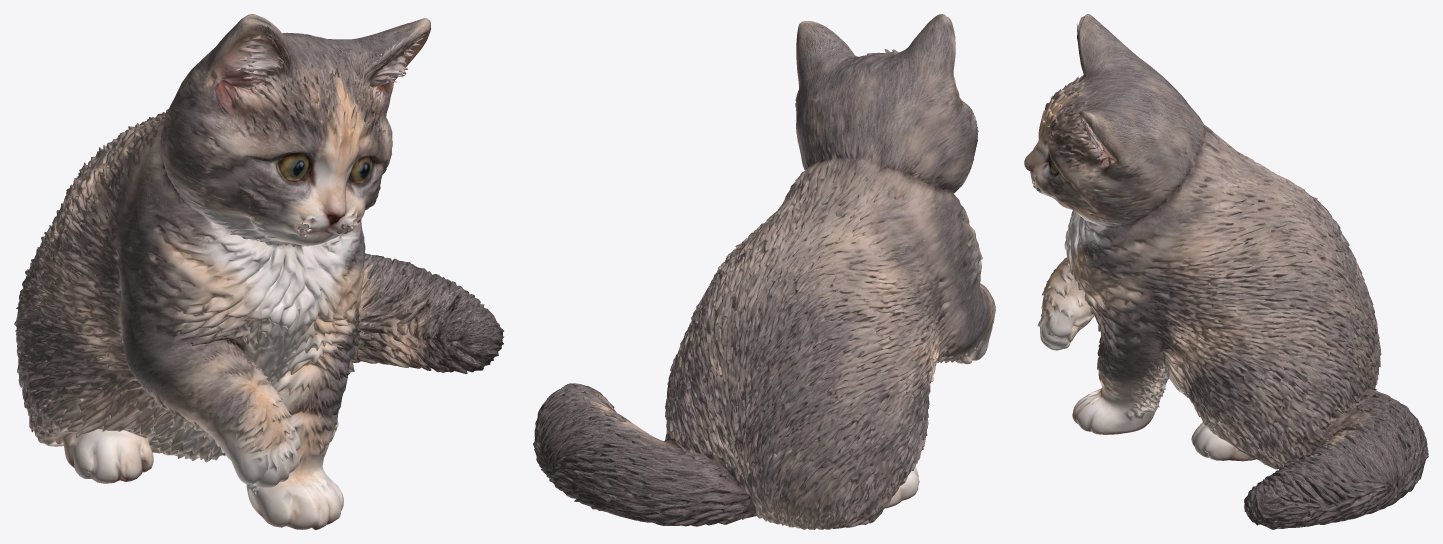
Rendered from chashao.glb.
3 renders of one model, left to right at view 1: azimuth 30°, elevation 25°; view 2: azimuth 150°, elevation 25°; view 3: azimuth 270°, elevation 25°, orthographic. The views are drawn at different scales.
Visible parts, largest first — view 1: kitten; view 2: kitten; view 3: kitten.
Boxes of the visible parts, <box> form: kitten: <box>14,14,503,529</box>; kitten: <box>533,14,995,529</box>; kitten: <box>1024,14,1428,529</box>.
Size of the model in its own units: 0.2309 by 0.2499 by 0.2365.
1 material, 1 textured.
